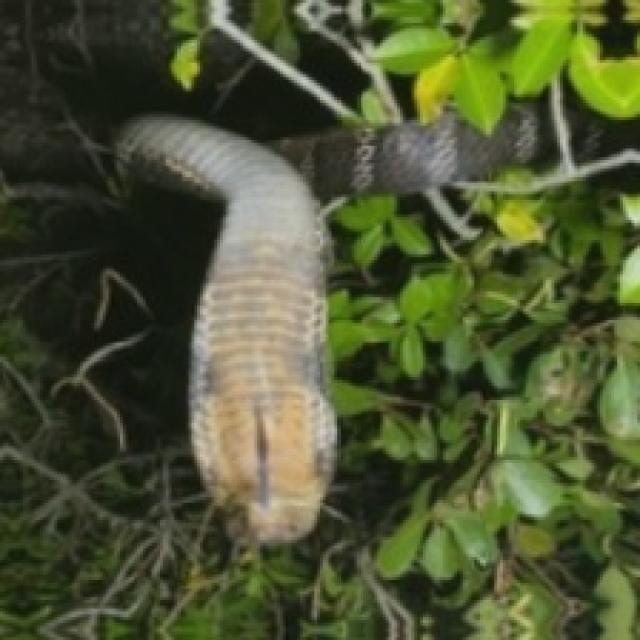king cobra: (117, 106, 534, 540)
